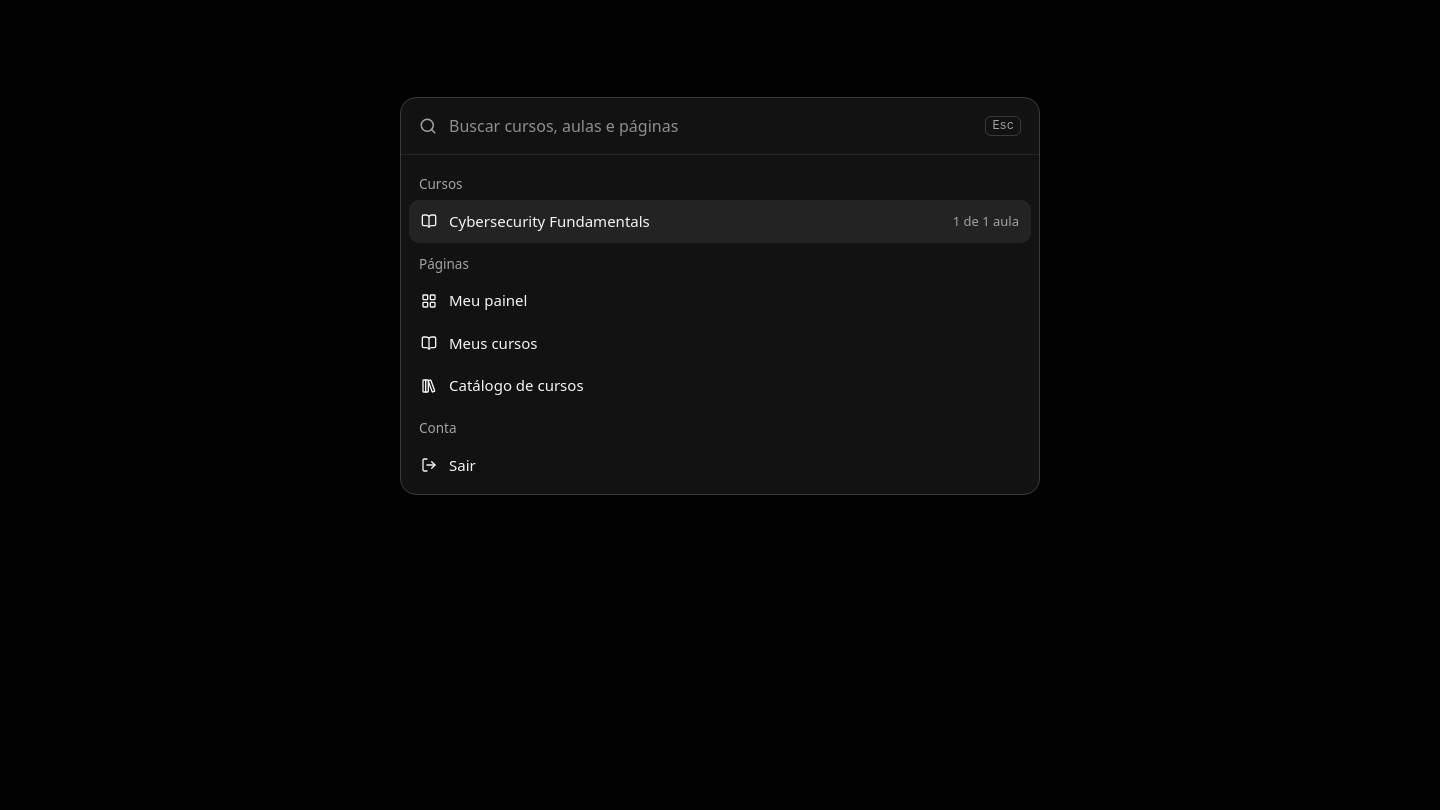
it: busca da Academy › sem texto, mostra só cursos e páginas; sem resultado, orienta a busca
Expected: the option "Cybersecurity Fundamentals 1 de 1 aula" is shown, [409, 200, 1031, 243]
Type "kubernetes" into the field named "Buscar" at [711, 126], box [449, 114, 973, 138]
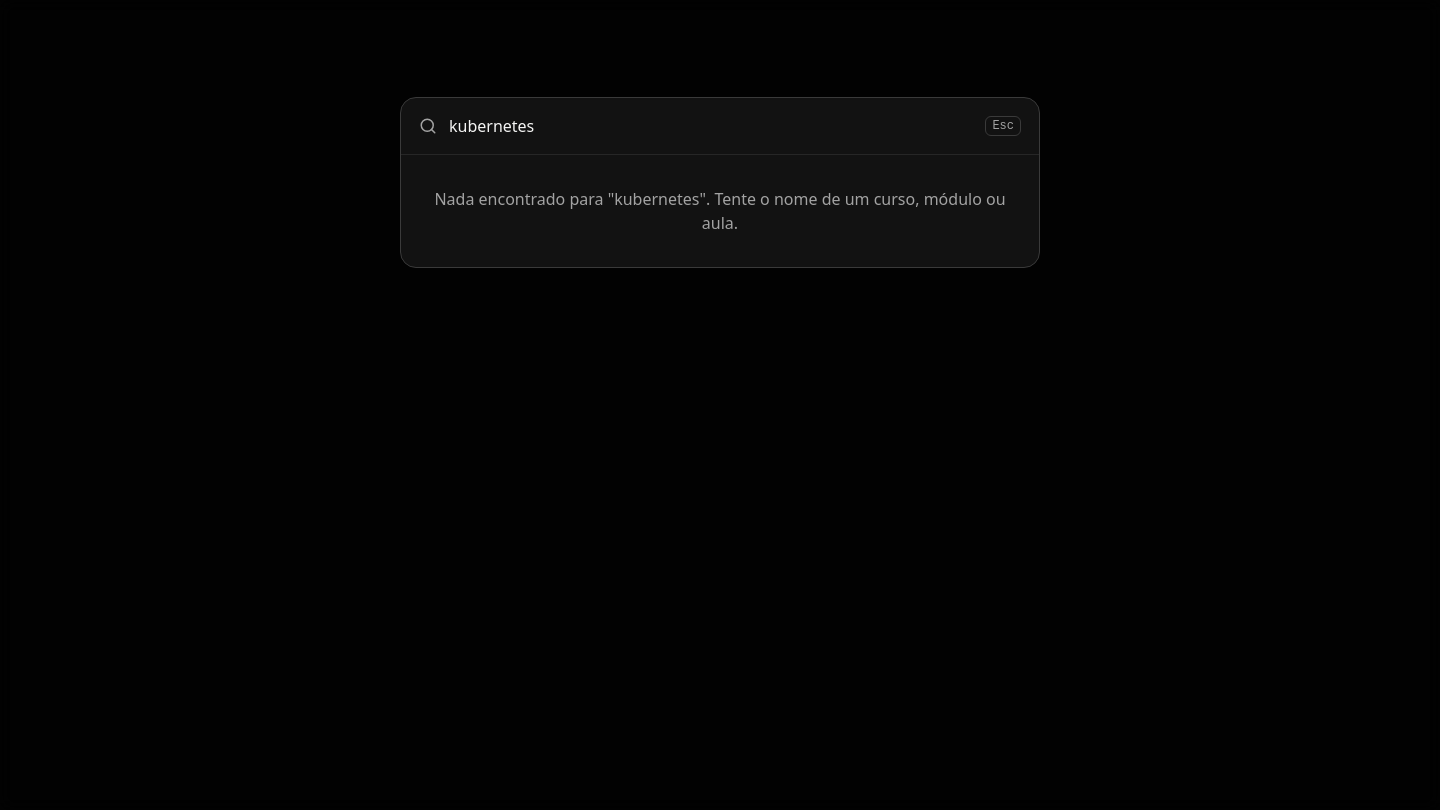
Now the list item "Nada encontrado para \"kubernetes\"" is shown, box [434, 188, 1006, 234]
